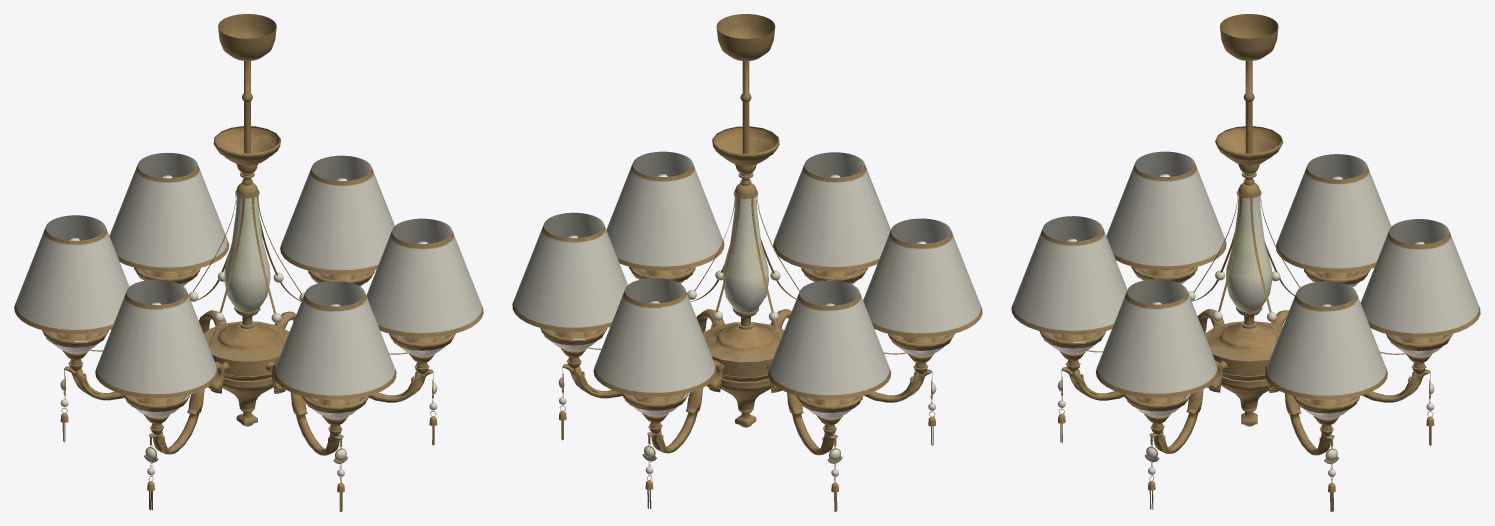
Rendered from Chandelier_01.gltf.
3 views of the same model, side by side, from view 1: azimuth 30°, elevation 25°; view 2: azimuth 150°, elevation 25°; view 3: azimuth 270°, elevation 25° (orthographic).
Visible parts, largest first — view 1: Chandelier_01; view 2: Chandelier_01; view 3: Chandelier_01.
Boxes of the visible parts, bbox=[...] form: Chandelier_01: bbox=[14, 14, 483, 511]; Chandelier_01: bbox=[512, 14, 982, 511]; Chandelier_01: bbox=[1011, 14, 1480, 511].
Size of the model in its own units: 0.7465 by 0.7983 by 0.8155.
Materials: 2 (1 with a texture image).
